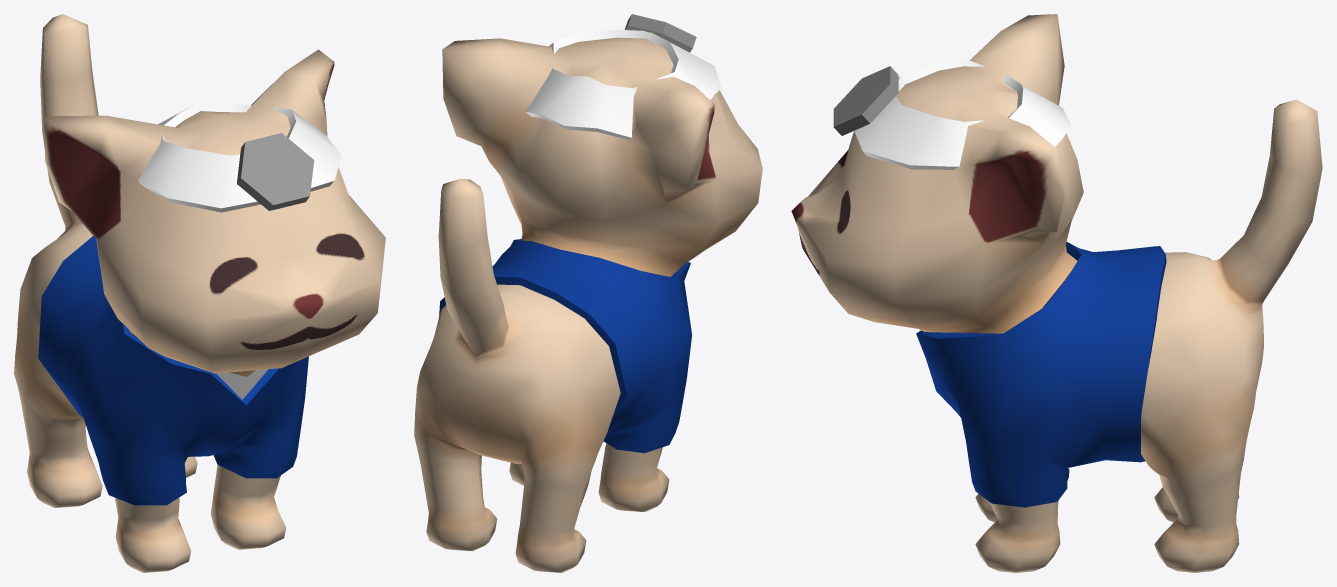
File: Dentist Cat01.fbx
3 views of the same model, side by side, from view 1: azimuth 30°, elevation 25°; view 2: azimuth 150°, elevation 25°; view 3: azimuth 270°, elevation 25° (orthographic). The views are drawn at different scales.
Visible parts, largest first — view 1: Cat_Base, Dentist_Cat_Scrubs, Dentist_Cat_Headband; view 2: Cat_Base, Dentist_Cat_Scrubs, Dentist_Cat_Headband; view 3: Cat_Base, Dentist_Cat_Scrubs, Dentist_Cat_Headband.
Boxes of the visible parts, x1,y1,x2,y2 form: Cat_Base: (14,14,385,572); Dentist_Cat_Scrubs: (38,236,308,505); Dentist_Cat_Headband: (138,103,341,212); Cat_Base: (414,37,762,572); Dentist_Cat_Scrubs: (439,239,691,453); Dentist_Cat_Headband: (525,14,721,140); Cat_Base: (791,14,1322,572); Dentist_Cat_Scrubs: (916,242,1166,507); Dentist_Cat_Headband: (833,58,1070,169).
Size of the model in its own units: 1.75 by 2.83 by 2.72.
Materials: 4 (1 with a texture image).
